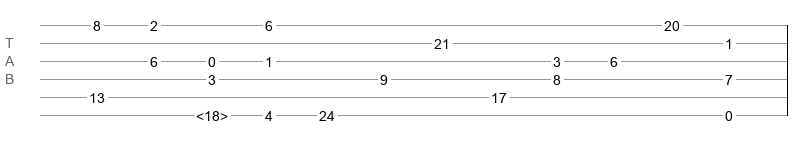0: (208, 54, 216, 64), (725, 108, 733, 118)
1: (265, 54, 273, 64), (725, 36, 733, 46)
13: (89, 90, 105, 100)
17: (491, 90, 507, 100)
2: (150, 18, 158, 28)
20: (664, 18, 680, 28)
21: (434, 36, 450, 46)
24: (319, 108, 335, 118)
3: (208, 72, 216, 82), (553, 54, 561, 64)
4: (265, 108, 273, 118)
6: (150, 54, 158, 64), (265, 18, 273, 28), (610, 54, 618, 64)
7: (725, 72, 733, 82)
8: (93, 18, 101, 28), (553, 72, 561, 82)
9: (380, 72, 388, 82)
harmonic: (196, 108, 228, 118)
